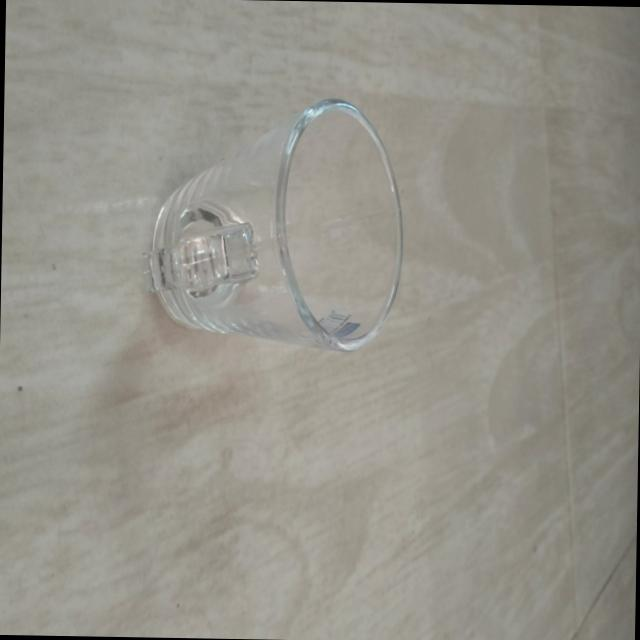glass-VX4N: (150, 94, 413, 348)
